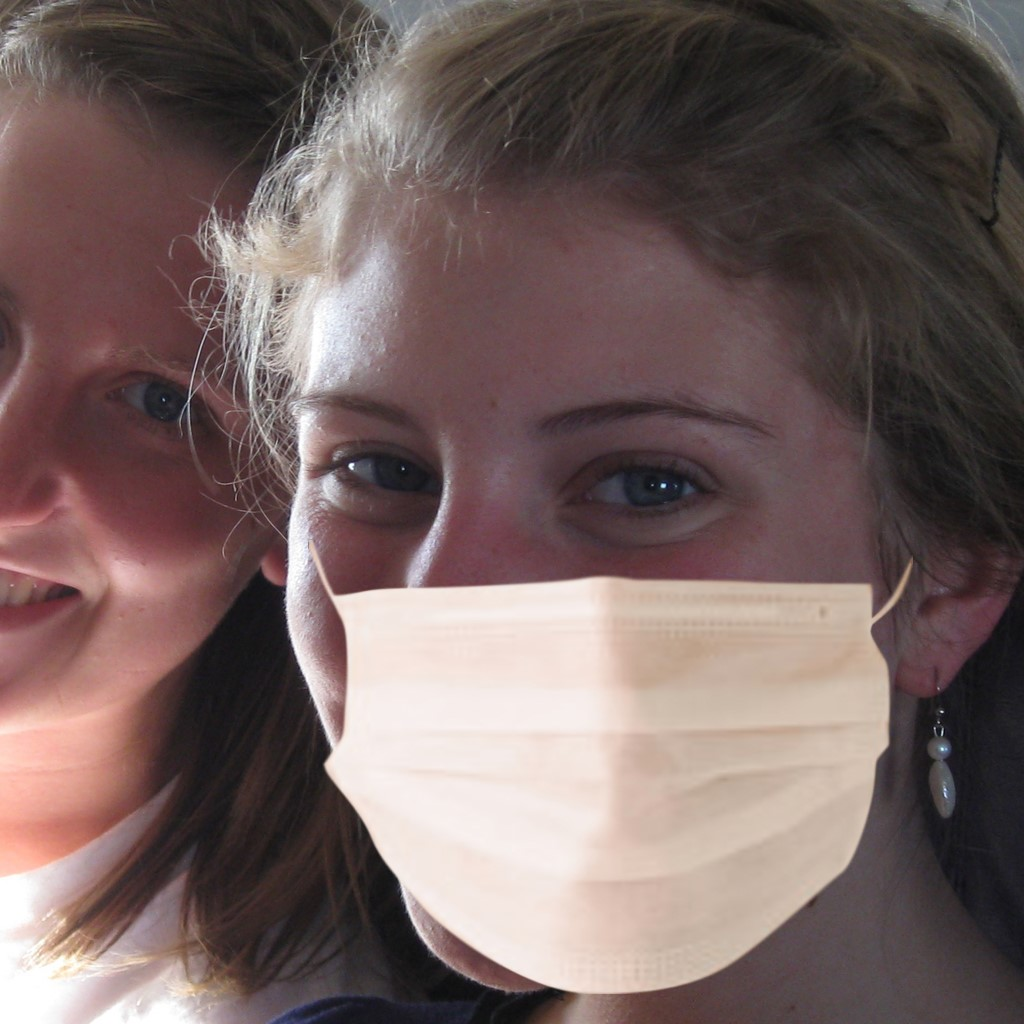con_mascara: (255, 205, 935, 964)
